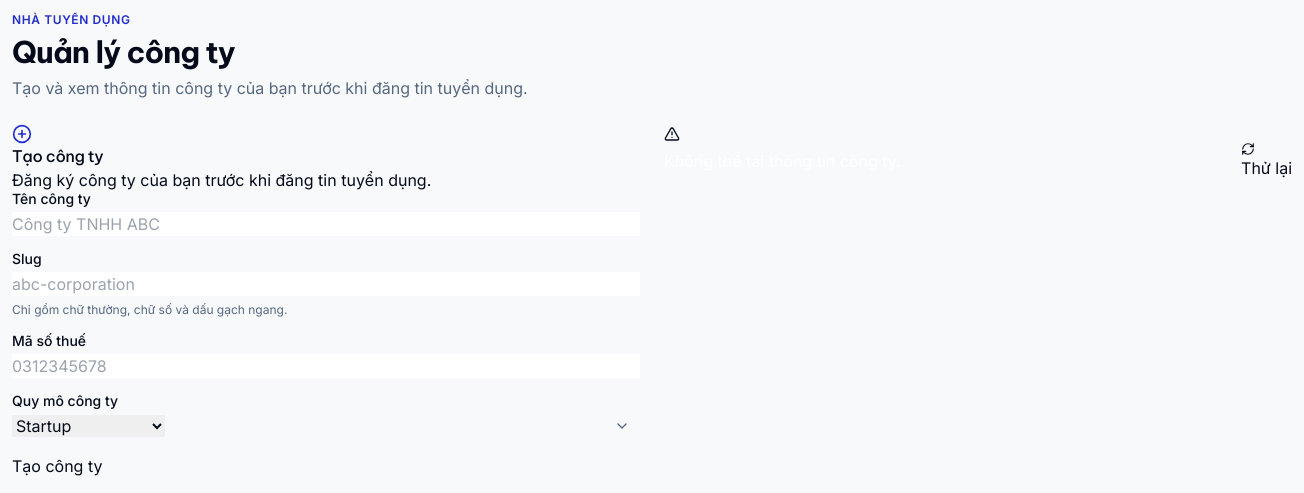
RecruiterCompanyPage › retries loading when the retry button is clicked
The image size is (1304, 493).
Expected: the message "Không thể tải thông tin công ty. Thử lại" is shown, [664,126,1292,180]
Click the button "Thử lại" at (1267, 161), box [1241,142,1292,180]
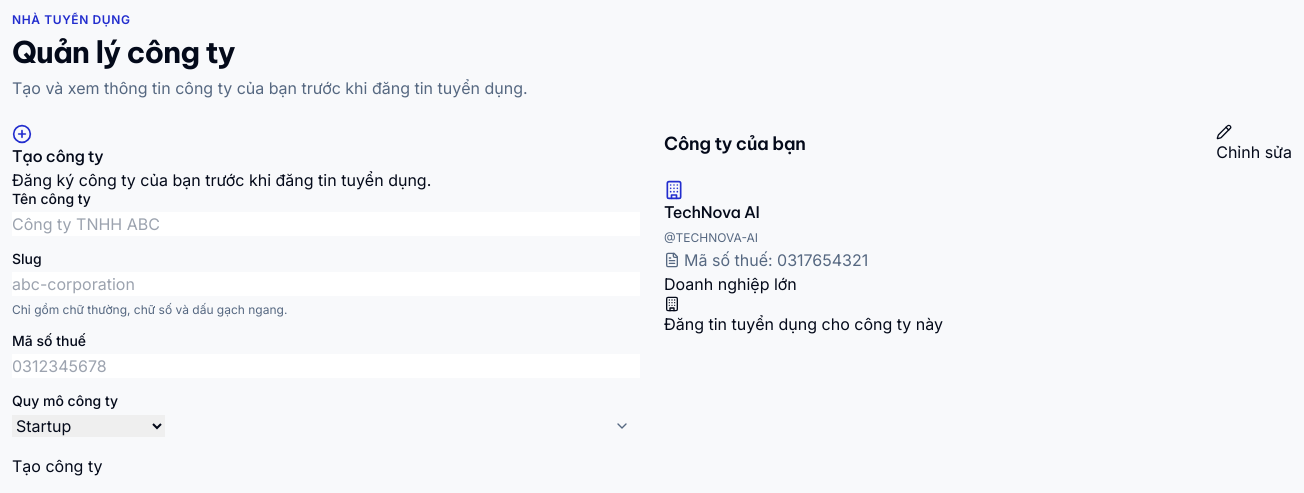
Now the heading "TechNova AI" is shown, box [664,180,760,222]
